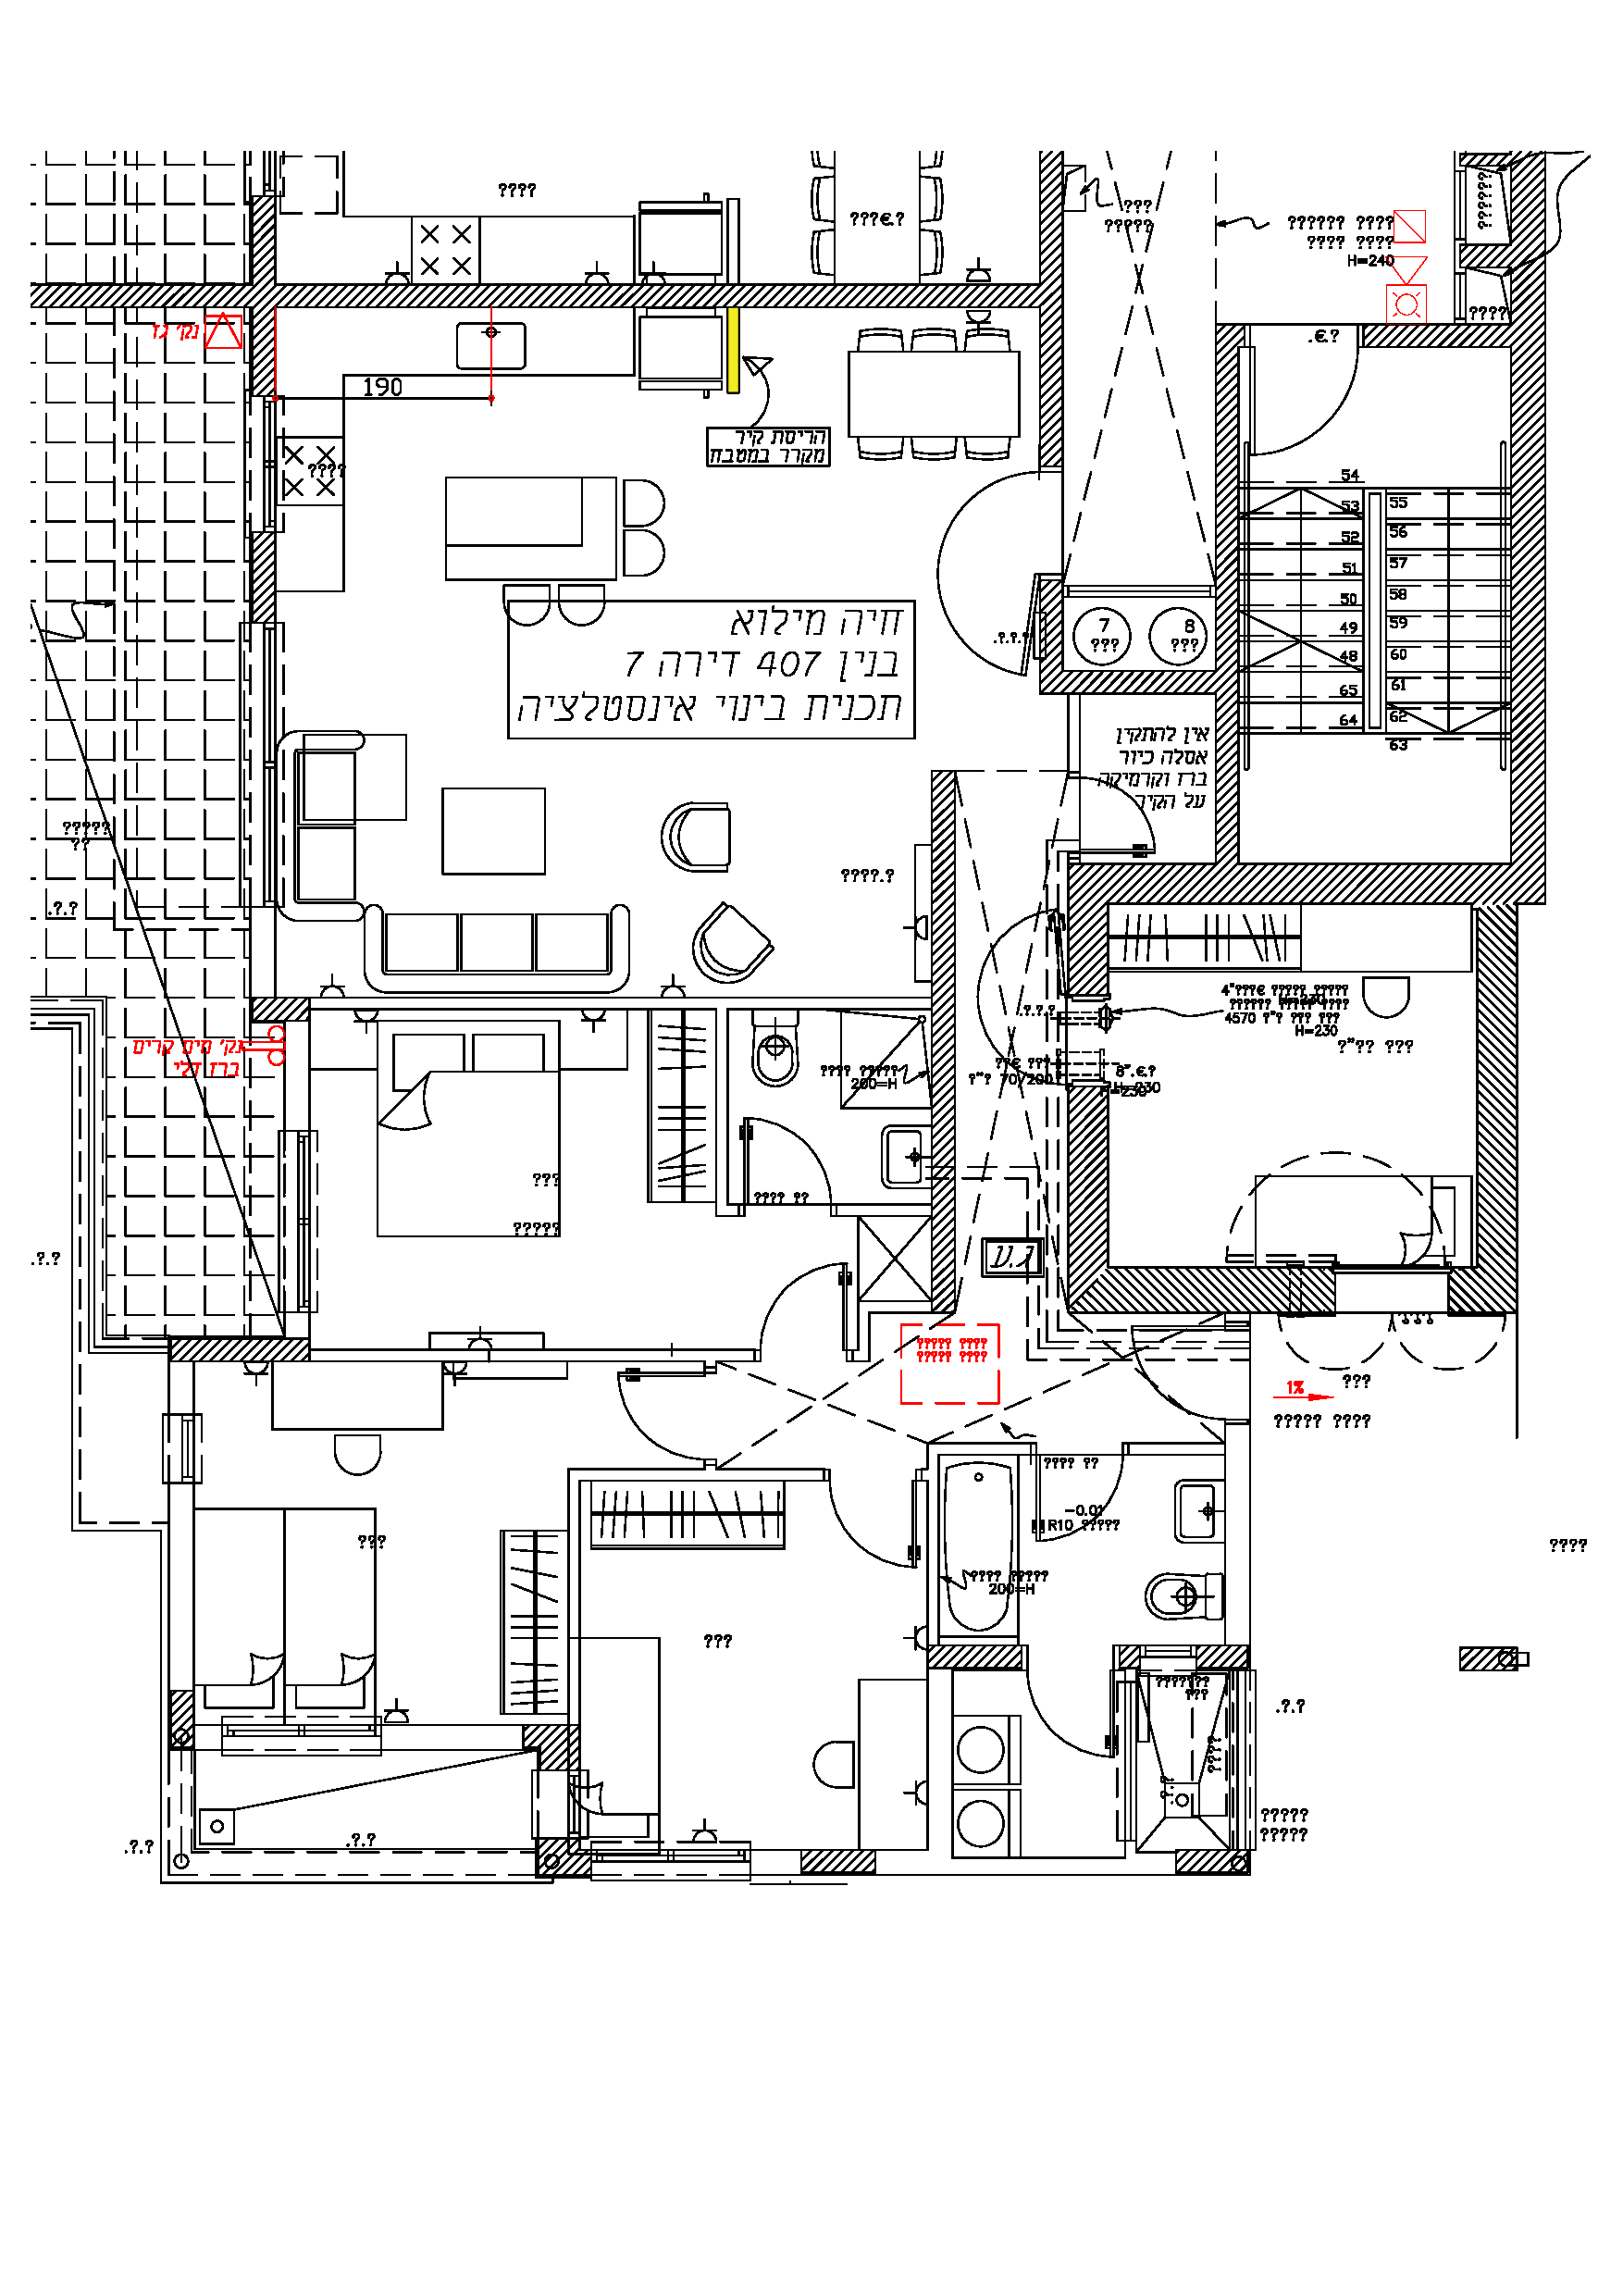door: (806, 1479, 919, 1590), (1019, 1671, 1129, 1783), (592, 1356, 703, 1467), (736, 1086, 847, 1196), (734, 1084, 845, 1195)
wall: (1475, 868, 1519, 1310), (1511, 321, 1546, 864), (1070, 864, 1535, 905), (260, 283, 968, 306), (1214, 321, 1238, 864), (1070, 1267, 1305, 1310)
